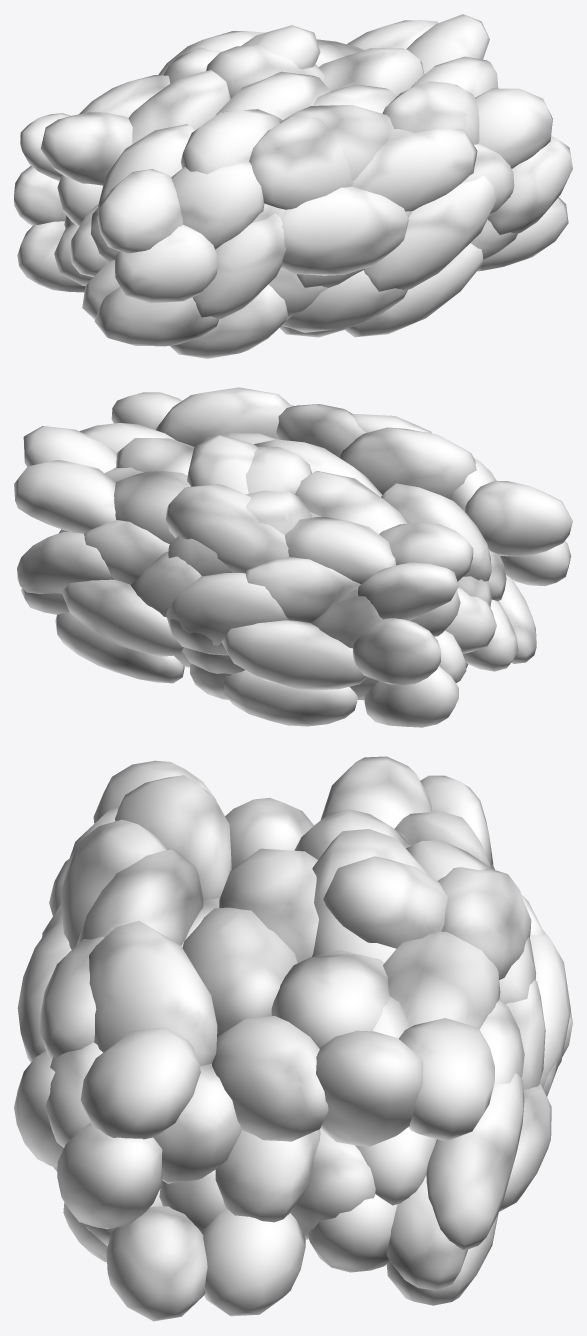
File: rice 2.fbx
3 views of the same model, one above another, from view 1: azimuth 30°, elevation 25°; view 2: azimuth 150°, elevation 25°; view 3: azimuth 270°, elevation 25° (orthographic). The views are drawn at different scales.
Parts seen in each view (by area): view 1: rice; view 2: rice; view 3: rice.
Part boxes in pixels (bbox=[...]): rice: bbox=[14, 14, 572, 358]; rice: bbox=[14, 387, 572, 727]; rice: bbox=[14, 756, 572, 1321].
Size of the model in its own units: 187 by 95.04 by 124.
